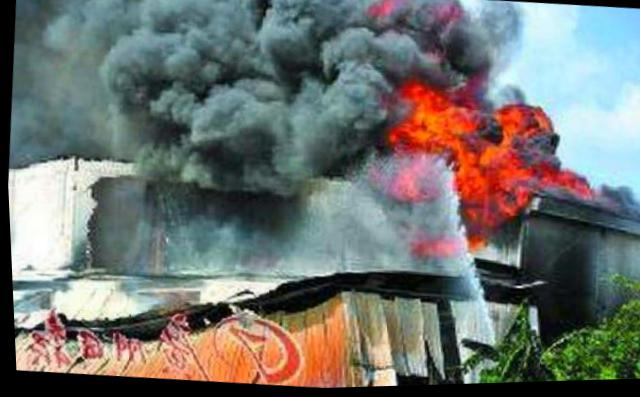fire: (455, 143, 533, 215), (409, 95, 476, 157), (494, 107, 534, 149)
